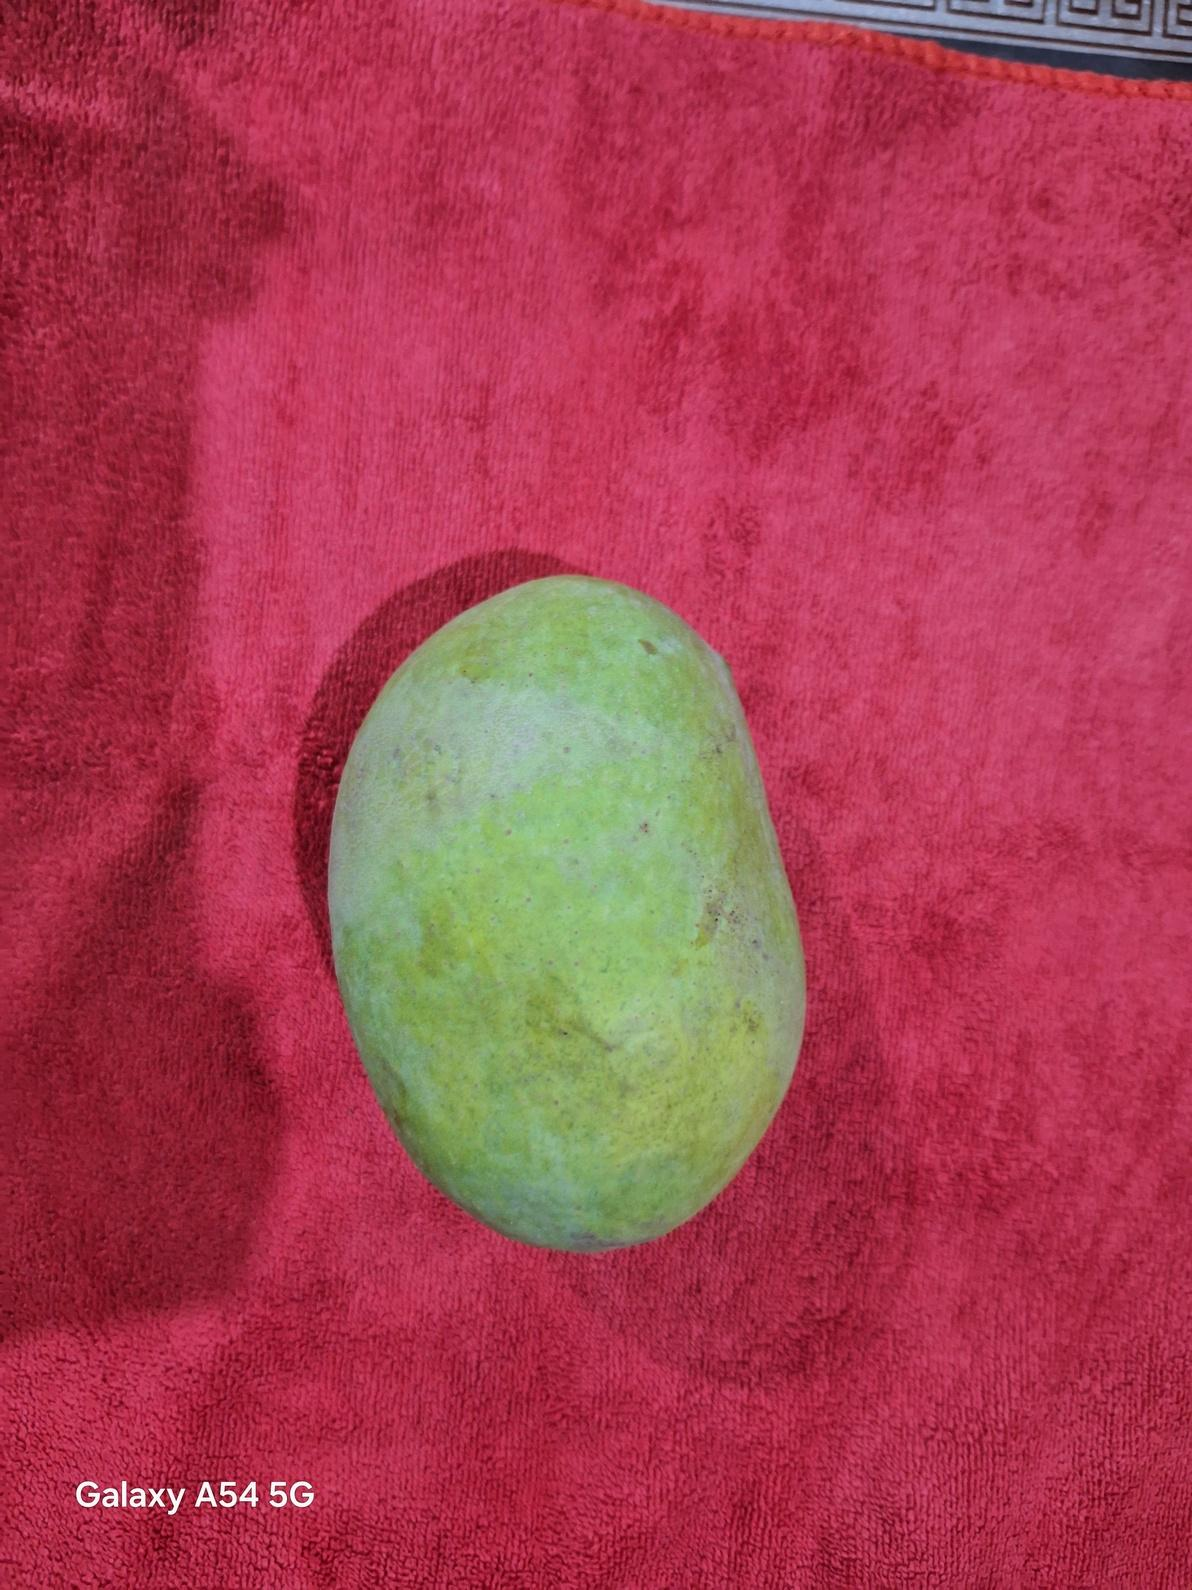mango: (324, 570, 808, 1253)
